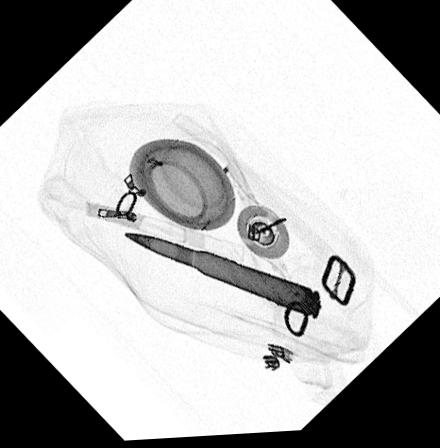Bullet: (120, 235, 321, 323)
